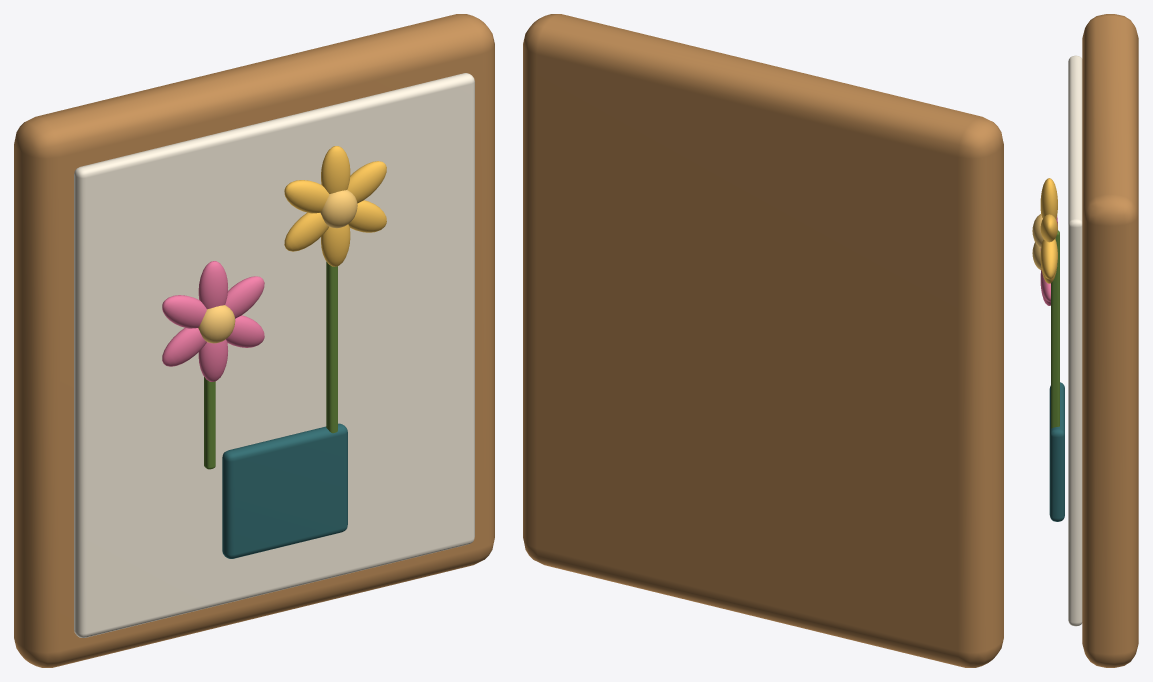
File: framed-flowers.obj
The picture shows the model from 3 angles, left to right: view 1: azimuth 30°, elevation 25°; view 2: azimuth 150°, elevation 25°; view 3: azimuth 270°, elevation 25°; orthographic projection. The views are drawn at different scales.
Visible parts, largest first — view 1: framed-flowers_cream, framed-flowers_oak, framed-flowers_teal, framed-flowers_petalPink, framed-flowers_petalYellow, framed-flowers_leaf, framed-flowers_seed; view 2: framed-flowers_oak; view 3: framed-flowers_oak, framed-flowers_cream, framed-flowers_teal, framed-flowers_petalYellow, framed-flowers_leaf, framed-flowers_seed, framed-flowers_petalPink.
Part boxes in pixels (<box>): framed-flowers_cream: <box>74,73,474,637</box>; framed-flowers_oak: <box>14,14,494,667</box>; framed-flowers_teal: <box>222,423,347,558</box>; framed-flowers_petalPink: <box>162,261,264,381</box>; framed-flowers_petalYellow: <box>284,146,386,266</box>; framed-flowers_leaf: <box>204,261,337,469</box>; framed-flowers_seed: <box>198,190,357,343</box>; framed-flowers_oak: <box>523,14,1003,667</box>; framed-flowers_oak: <box>1082,14,1138,667</box>; framed-flowers_cream: <box>1068,55,1082,626</box>; framed-flowers_teal: <box>1049,382,1064,521</box>; framed-flowers_petalYellow: <box>1040,178,1057,283</box>; framed-flowers_leaf: <box>1051,230,1059,428</box>; framed-flowers_seed: <box>1032,214,1055,269</box>; framed-flowers_petalPink: <box>1040,216,1057,305</box>.
Bounding box in the file's own units: 0.46 × 0.51 × 0.104.
